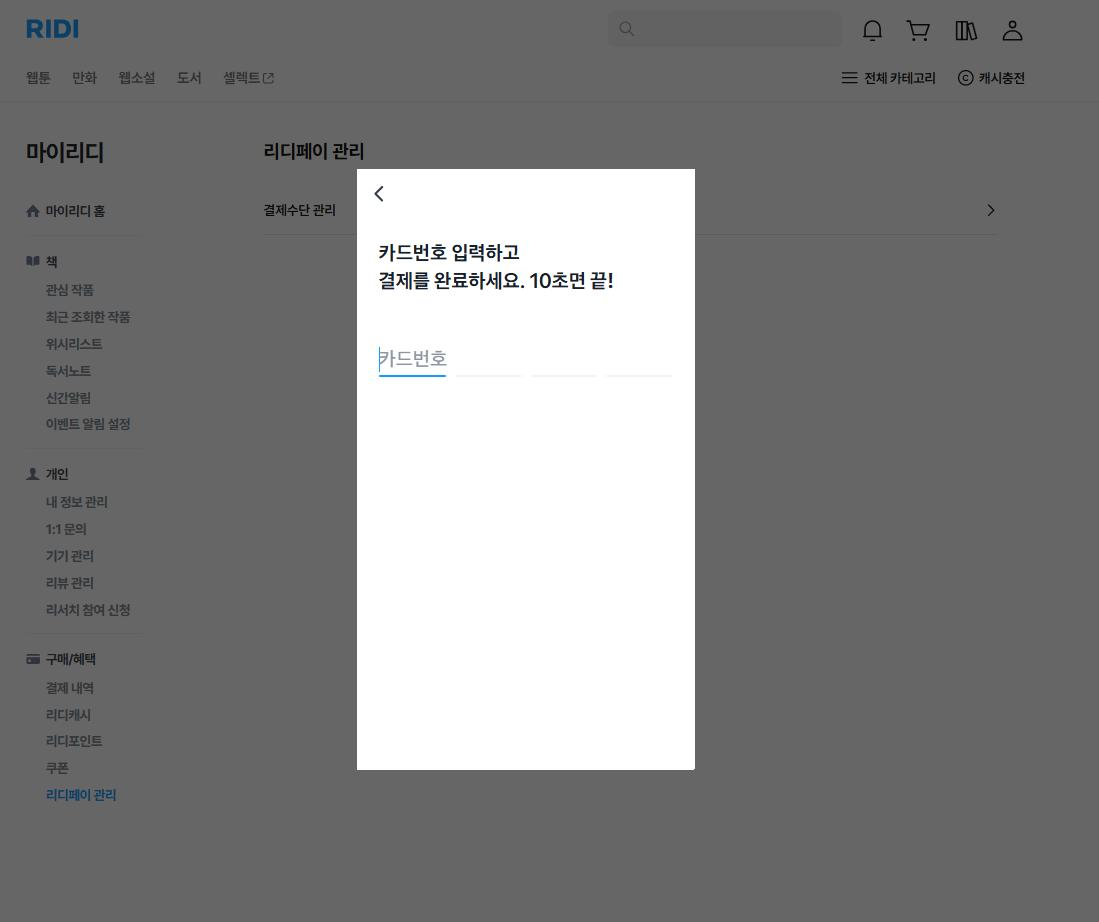button: (24, 306, 146, 327), (41, 600, 141, 624), (38, 784, 126, 811), (28, 330, 111, 357), (955, 64, 1037, 90), (35, 414, 146, 433), (37, 358, 102, 387), (34, 280, 104, 304), (37, 571, 103, 596), (225, 63, 286, 90), (32, 386, 93, 413), (26, 55, 66, 96), (30, 493, 116, 512), (41, 731, 112, 754), (855, 9, 893, 48), (41, 543, 104, 566), (901, 11, 942, 46), (948, 14, 989, 48), (38, 518, 98, 541), (117, 61, 163, 90), (37, 706, 96, 727), (998, 14, 1033, 48), (41, 678, 97, 698), (179, 61, 214, 92), (74, 54, 97, 90), (368, 175, 393, 208), (36, 759, 77, 779), (616, 15, 641, 41), (982, 198, 999, 221)
input_field: (607, 11, 848, 45)
popup: (357, 168, 696, 768)
